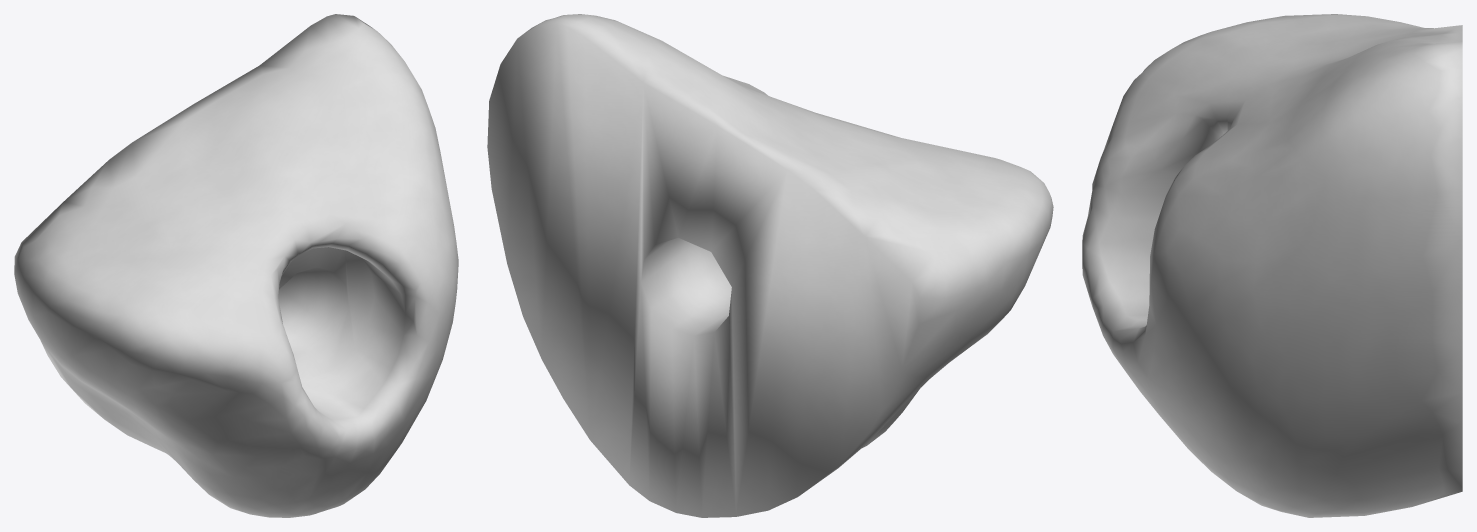
Rendered from Hold_1.glb.
The picture shows the model from 3 angles, left to right: view 1: azimuth 30°, elevation 25°; view 2: azimuth 150°, elevation 25°; view 3: azimuth 270°, elevation 25°; orthographic projection. The views are drawn at different scales.
Parts seen in each view (by area): view 1: bh_5x5_03; view 2: bh_5x5_03; view 3: bh_5x5_03.
Part boxes in pixels (box(x1,y1,x2,y2)): bh_5x5_03: box(14, 14, 458, 517); bh_5x5_03: box(487, 14, 1053, 517); bh_5x5_03: box(1082, 14, 1462, 517).
Size of the model in its own units: 0.2213 by 0.2159 by 0.1444.
Materials: 1 (1 with a texture image).
